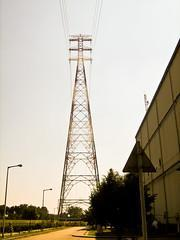power_tower: (49, 23, 103, 219)
